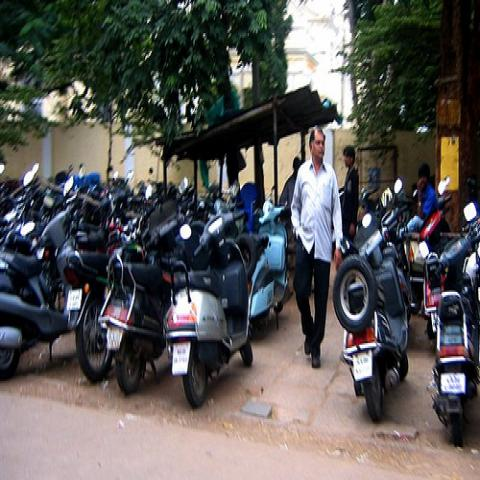motorcycle: (102, 178, 199, 396), (163, 200, 254, 411), (335, 191, 414, 426), (1, 179, 79, 379), (423, 200, 479, 449), (56, 217, 137, 386), (237, 198, 290, 341), (399, 195, 458, 306), (386, 178, 414, 310), (77, 164, 135, 226), (177, 191, 217, 264), (123, 197, 160, 268)
